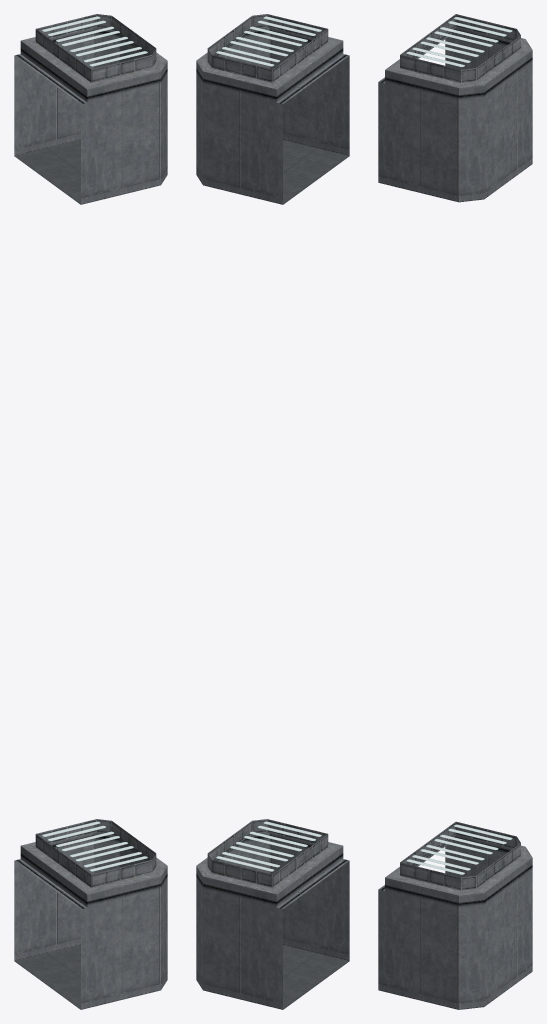
Rendered from poi_all_impl_bunker_warren_s01_r36_elevator36_mesh_r36.fbx.
The picture shows the model from 3 angles, left to right: view 1: azimuth 30°, elevation 25°; view 2: azimuth 150°, elevation 25°; view 3: azimuth 330°, elevation 25°; orthographic projection.
Parts seen in each view (by area): view 1: mesh_node; view 2: mesh_node; view 3: mesh_node.
Part boxes in pixels (x1,y1,x2,y2): mesh_node: (14,14,167,1009); mesh_node: (196,14,349,1009); mesh_node: (378,14,532,1009).
Bounding box in the file's own units: 3 × 27.8 × 3.6.
